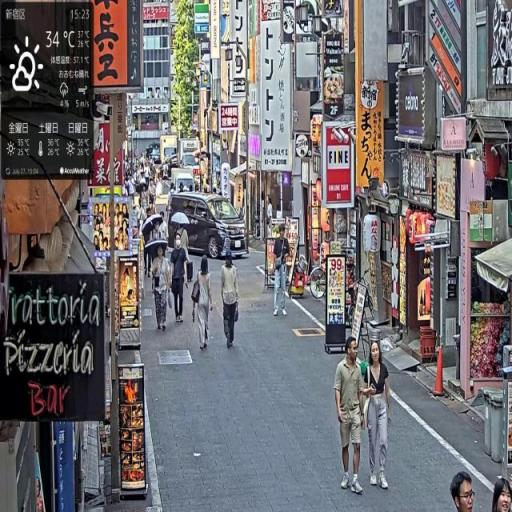person: (334, 335, 367, 496), (361, 338, 394, 493), (193, 259, 216, 354), (221, 252, 241, 352), (151, 243, 173, 332), (170, 238, 189, 324), (450, 471, 476, 512)
